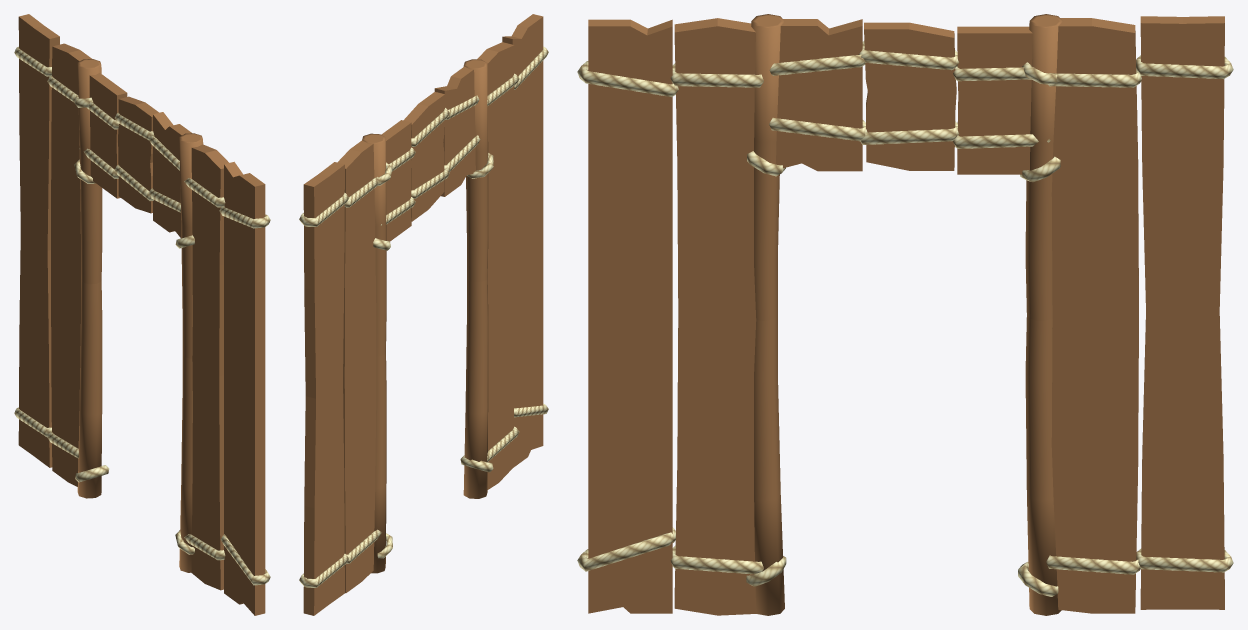
The model's file is H_WallDoor.fbx.
3 renders of one model, left to right at view 1: azimuth 30°, elevation 25°; view 2: azimuth 150°, elevation 25°; view 3: azimuth 270°, elevation 25°, orthographic. The views are drawn at different scales.
Visible parts, largest first — view 1: H_WallDoor; view 2: H_WallDoor; view 3: H_WallDoor.
Boxes of the visible parts, box(x1,y1,x2,y2) form: H_WallDoor: box(14, 14, 270, 615); H_WallDoor: box(299, 14, 548, 615); H_WallDoor: box(577, 14, 1233, 615).
Bounding box in the file's own units: 23.56 × 301 × 303.
